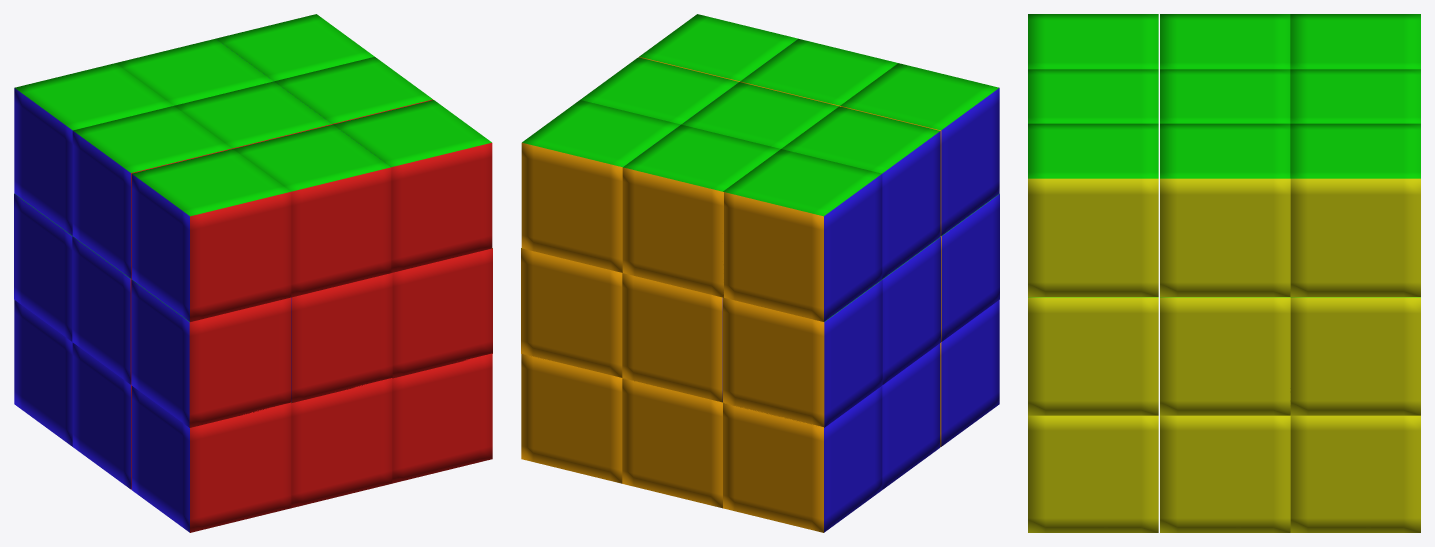
Rendered from rubik.honban.fbx.
3 renders of one model, left to right at view 1: azimuth 30°, elevation 25°; view 2: azimuth 150°, elevation 25°; view 3: azimuth 270°, elevation 25°, orthographic. The views are drawn at different scales.
Parts seen in each view (by area): view 1: Cube.026, Cube.020, Cube.021, Cube.025, Cube.024, Cube.009, Cube.008, Cube.023, Cube.018, Cube.022, Cube.019, Cube.014 (+7 smaller); view 2: Cube.008, Cube.003, Cube.002, Cube.007, Cube.006, Cube.026, Cube.009, Cube.001, Cube.004, Cube, Cube.005, Cube.020 (+7 smaller); view 3: Cube.025, Cube.007, Cube.010, Cube.022, Cube.013, Cube.004, Cube.019, Cube.016, Cube.001, Cube.026, Cube.008, Cube.009 (+3 smaller).
Part boxes in pixels (left/top/right/bottom): Cube.026: left=131, top=149, right=291, bottom=321; Cube.020: left=131, top=386, right=291, bottom=532; Cube.021: left=131, top=279, right=290, bottom=427; Cube.025: left=333, top=100, right=492, bottom=272; Cube.024: left=233, top=124, right=391, bottom=297; Cube.009: left=72, top=106, right=232, bottom=278; Cube.008: left=14, top=63, right=173, bottom=235; Cube.023: left=291, top=273, right=392, bottom=403; Cube.018: left=291, top=378, right=392, bottom=508; Cube.022: left=392, top=248, right=492, bottom=378; Cube.019: left=392, top=353, right=492, bottom=483; Cube.014: left=72, top=236, right=131, bottom=384; Cube.008: left=723, top=149, right=882, bottom=321; Cube.003: left=723, top=279, right=882, bottom=427; Cube.002: left=723, top=386, right=882, bottom=532; Cube.007: left=521, top=100, right=680, bottom=272; Cube.006: left=622, top=124, right=780, bottom=297; Cube.026: left=840, top=63, right=999, bottom=235; Cube.009: left=781, top=106, right=940, bottom=278; Cube.001: left=521, top=353, right=622, bottom=483; Cube.004: left=521, top=248, right=622, bottom=377; Cube: left=622, top=378, right=722, bottom=508; Cube.005: left=622, top=273, right=722, bottom=402; Cube.020: left=940, top=300, right=999, bottom=446; Cube.025: left=1028, top=123, right=1158, bottom=296; Cube.007: left=1290, top=123, right=1420, bottom=296; Cube.010: left=1160, top=123, right=1290, bottom=296; Cube.022: left=1028, top=297, right=1158, bottom=415; Cube.013: left=1160, top=297, right=1290, bottom=415; Cube.004: left=1290, top=297, right=1420, bottom=415; Cube.019: left=1028, top=415, right=1158, bottom=532; Cube.016: left=1160, top=415, right=1290, bottom=532; Cube.001: left=1290, top=415, right=1420, bottom=532; Cube.026: left=1028, top=14, right=1158, bottom=69; Cube.008: left=1290, top=14, right=1420, bottom=69; Cube.009: left=1160, top=14, right=1290, bottom=69.
Size of the model in its own units: 600 by 598 by 602.
